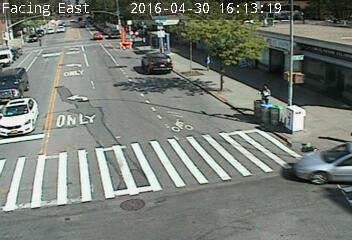pos: (261, 83, 275, 102)
